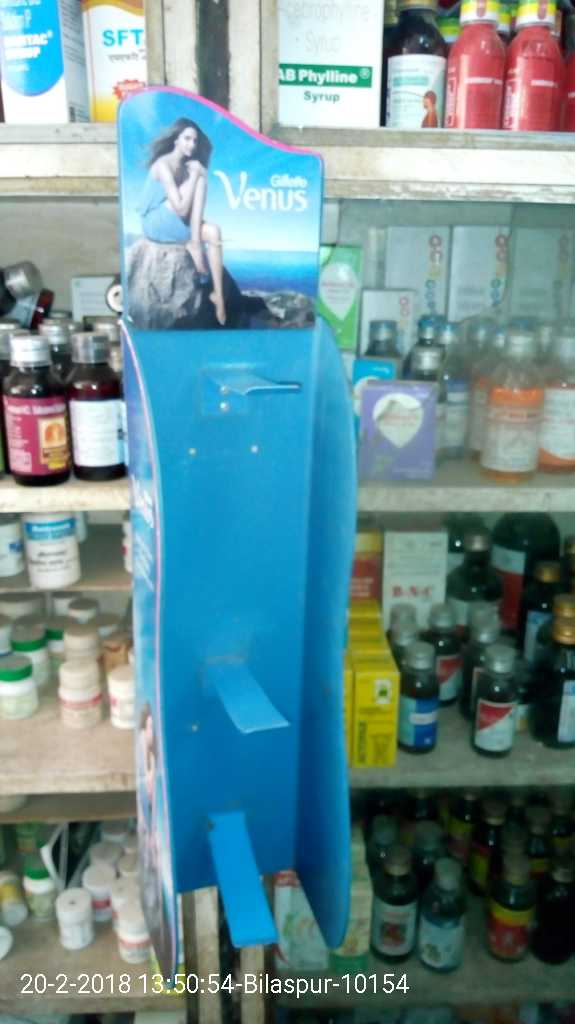reject: (164, 441, 227, 491)
